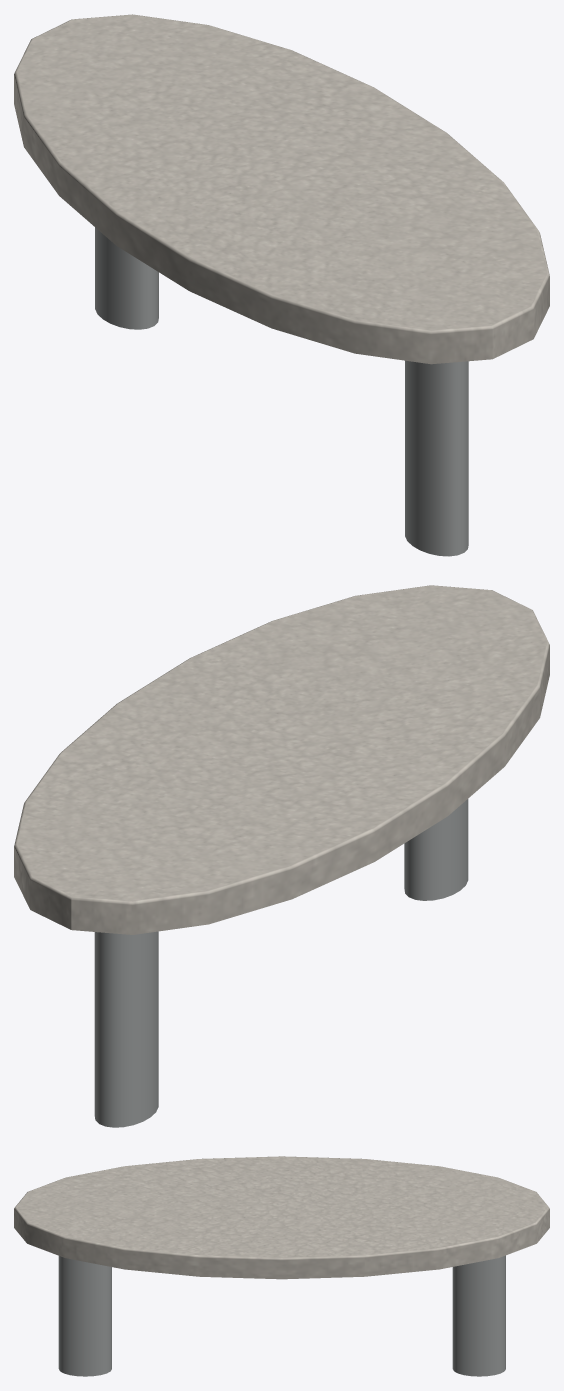
File: ass_20_table.fbx
3 renders of one model, top to bottom at view 1: azimuth 30°, elevation 25°; view 2: azimuth 150°, elevation 25°; view 3: azimuth 270°, elevation 25°, orthographic. The views are drawn at different scales.
Visible parts, largest first — view 1: table_leg_3; view 2: table_leg_3; view 3: table_leg_3.
Boxes of the visible parts, x1,y1,x2,y2 form: table_leg_3: [14, 14, 549, 556]; table_leg_3: [14, 585, 549, 1127]; table_leg_3: [14, 1156, 549, 1376].
Bounding box in the file's own units: 125 × 91.96 × 276.
Materials: 2 (2 with a texture image).
